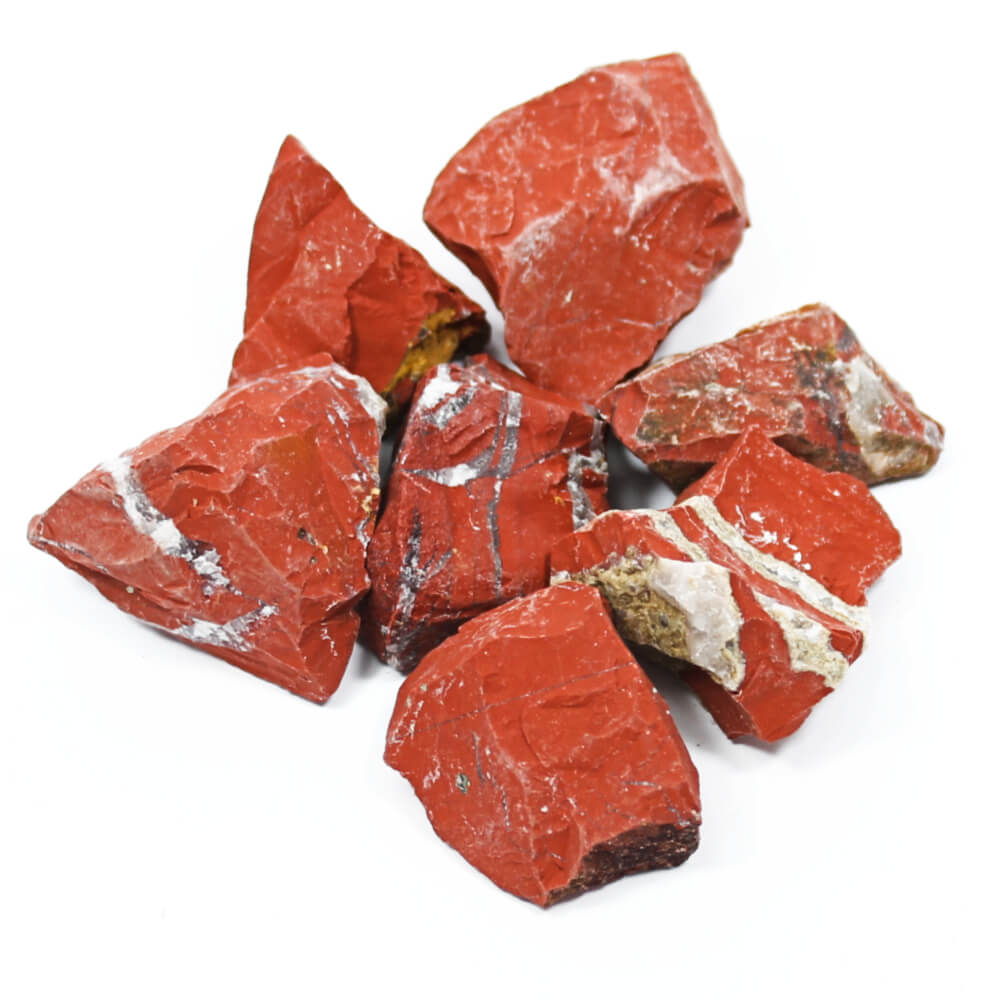Red_Jasper: (35, 52, 949, 907)
